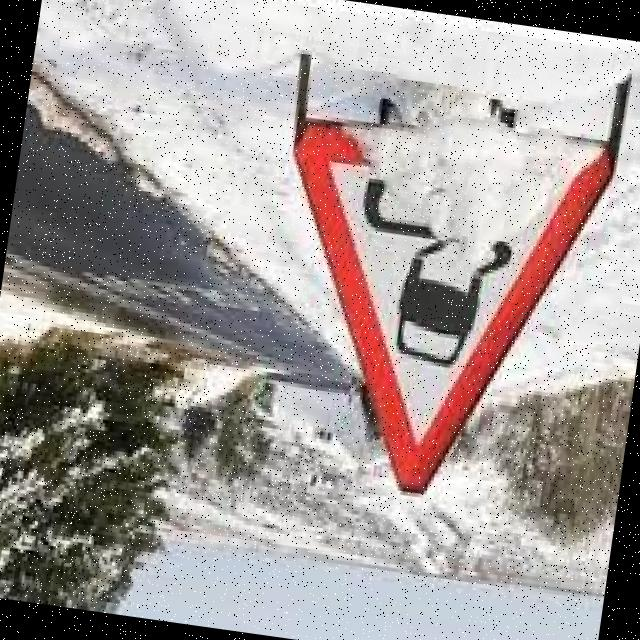road_slippery: (250, 104, 616, 517)
